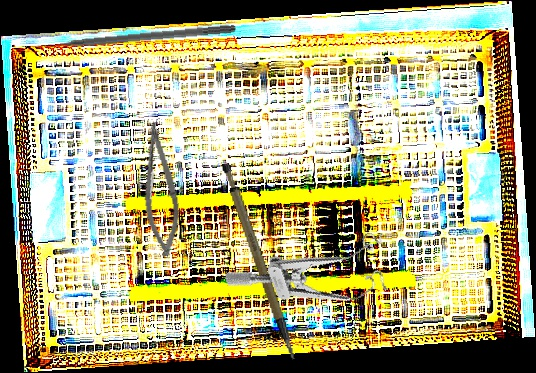Micro Scissor: (131, 120, 187, 258)
Pusher: (31, 22, 237, 51)
Scalpel Handle: (218, 157, 297, 367)
Speculum: (223, 218, 402, 341)
